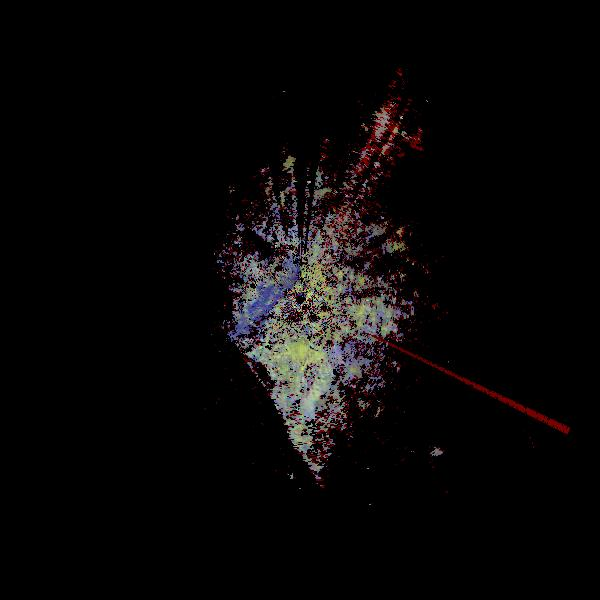roost: (379, 177, 484, 282), (250, 330, 346, 426), (238, 145, 307, 214)
